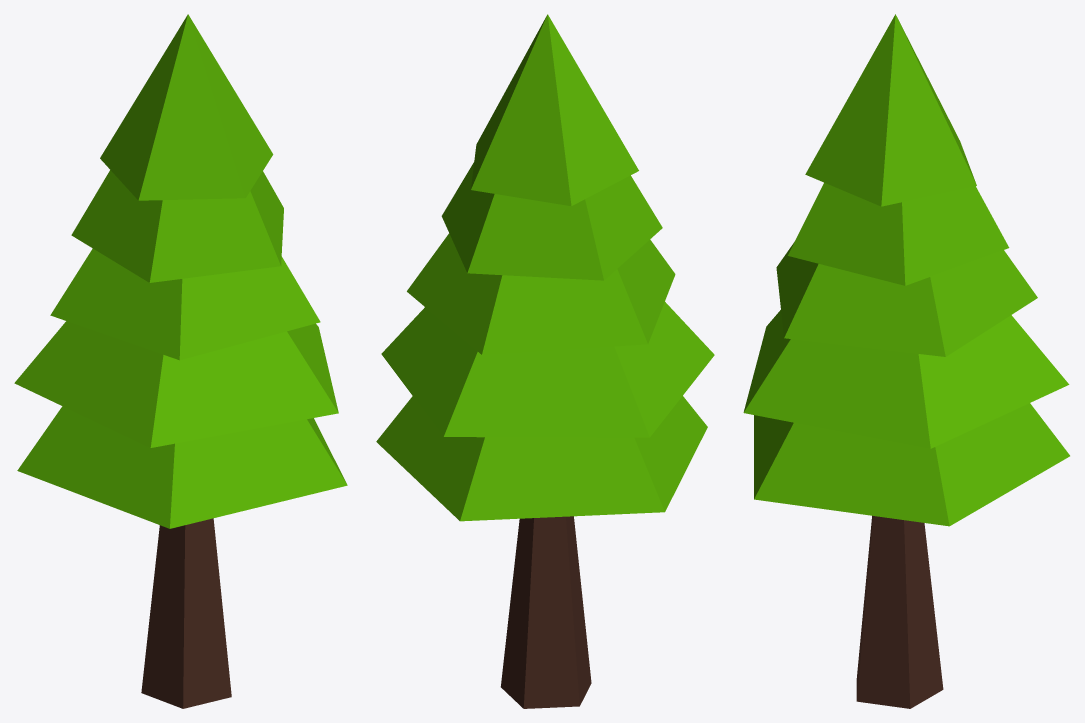
File: tree.fbx
3 views of the same model, side by side, from view 1: azimuth 30°, elevation 25°; view 2: azimuth 150°, elevation 25°; view 3: azimuth 270°, elevation 25° (orthographic).
Parts seen in each view (by area): view 1: leaf, tree_log; view 2: leaf, tree_log; view 3: leaf, tree_log.
Part boxes in pixels (left/top/right/bottom): leaf: left=14, top=14, right=347, bottom=528; tree_log: left=141, top=518, right=231, bottom=708; leaf: left=376, top=14, right=714, bottom=521; tree_log: left=500, top=516, right=591, bottom=708; leaf: left=743, top=14, right=1069, bottom=526; tree_log: left=856, top=515, right=943, bottom=708.
Size of the model in its own units: 1.93 by 4.26 by 1.87.
